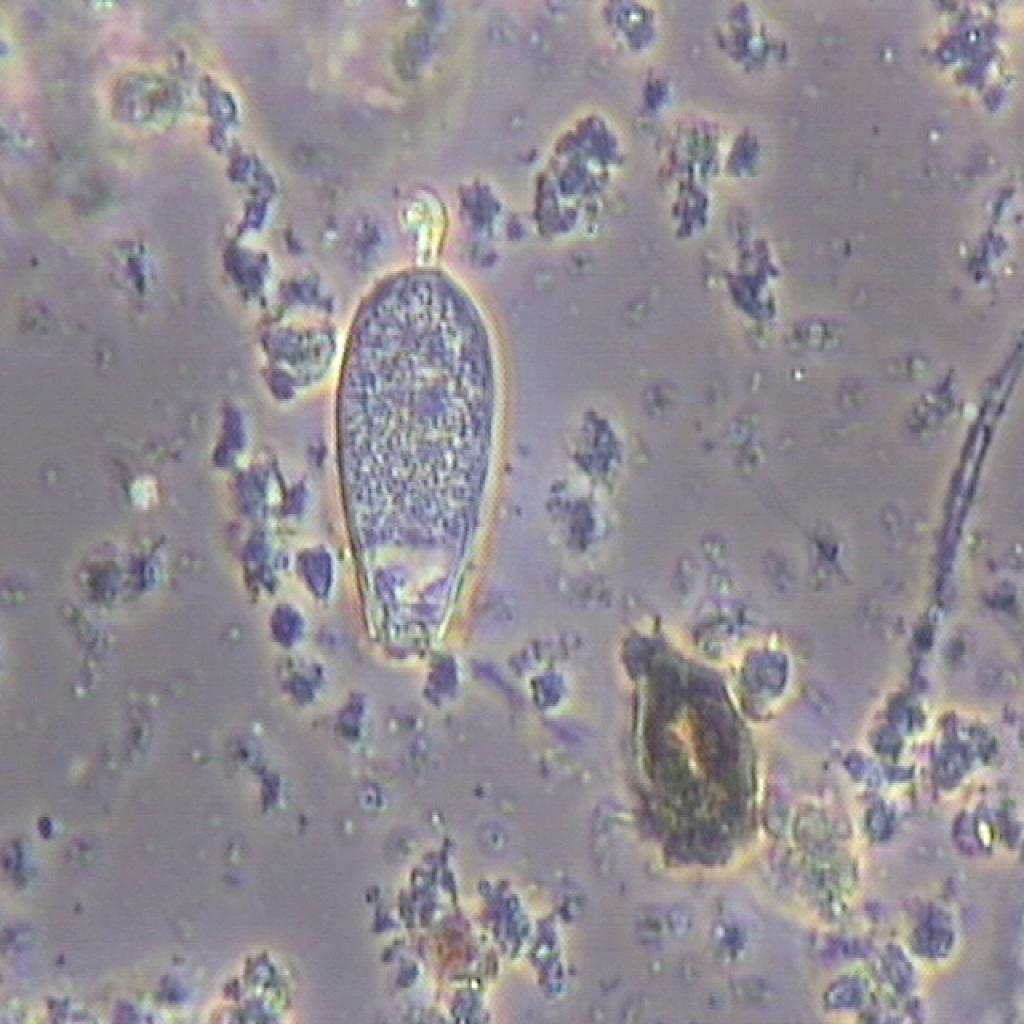Rotatoria: (312, 194, 512, 676)
